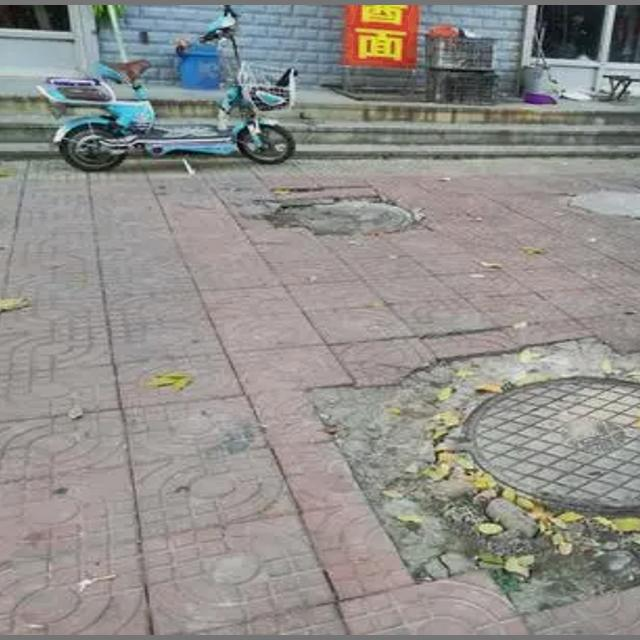circle: (332, 335, 640, 604)
